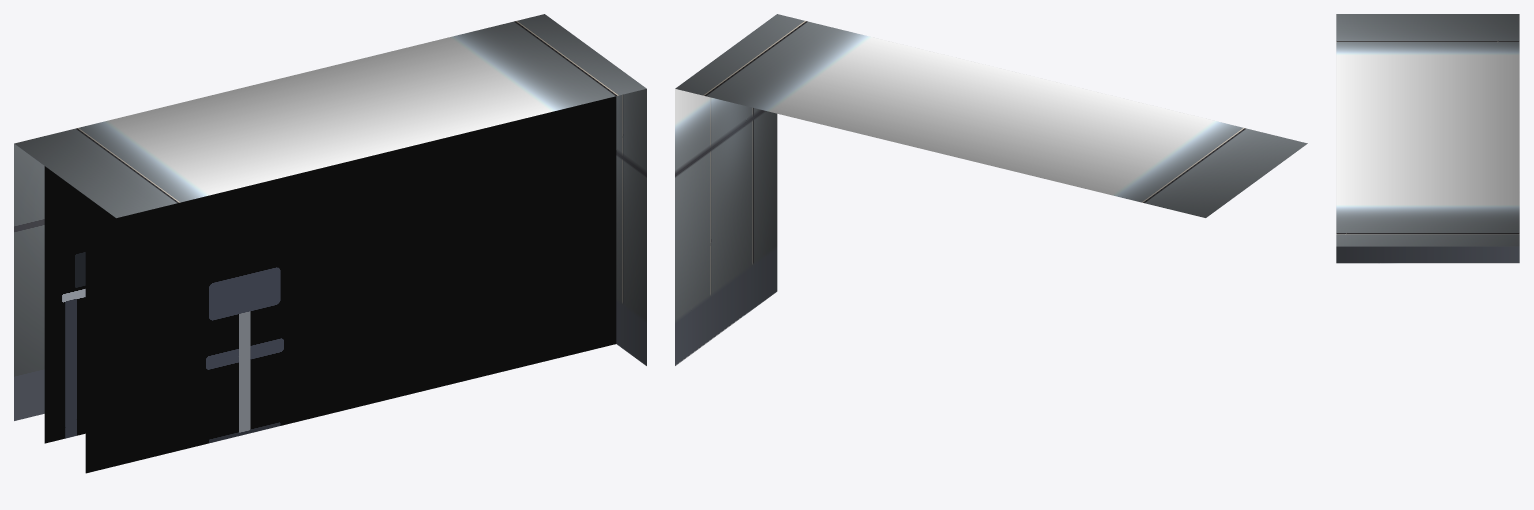
File: combo_104.glb
The picture shows the model from 3 angles, left to right: view 1: azimuth 30°, elevation 25°; view 2: azimuth 150°, elevation 25°; view 3: azimuth 270°, elevation 25°; orthographic projection. The views are drawn at different scales.
Parts seen in each view (by area): view 1: PropLayers, InteriorBox; view 2: InteriorBox; view 3: InteriorBox.
Boxes of the visible parts, <box> form: PropLayers: <box>44,96,616,473</box>; InteriorBox: <box>14,14,646,420</box>; InteriorBox: <box>675,14,1307,365</box>; InteriorBox: <box>1336,14,1519,263</box>.
Bounding box in the file's own units: 3 × 1.5 × 1.
Materials: 2 (2 with a texture image).
